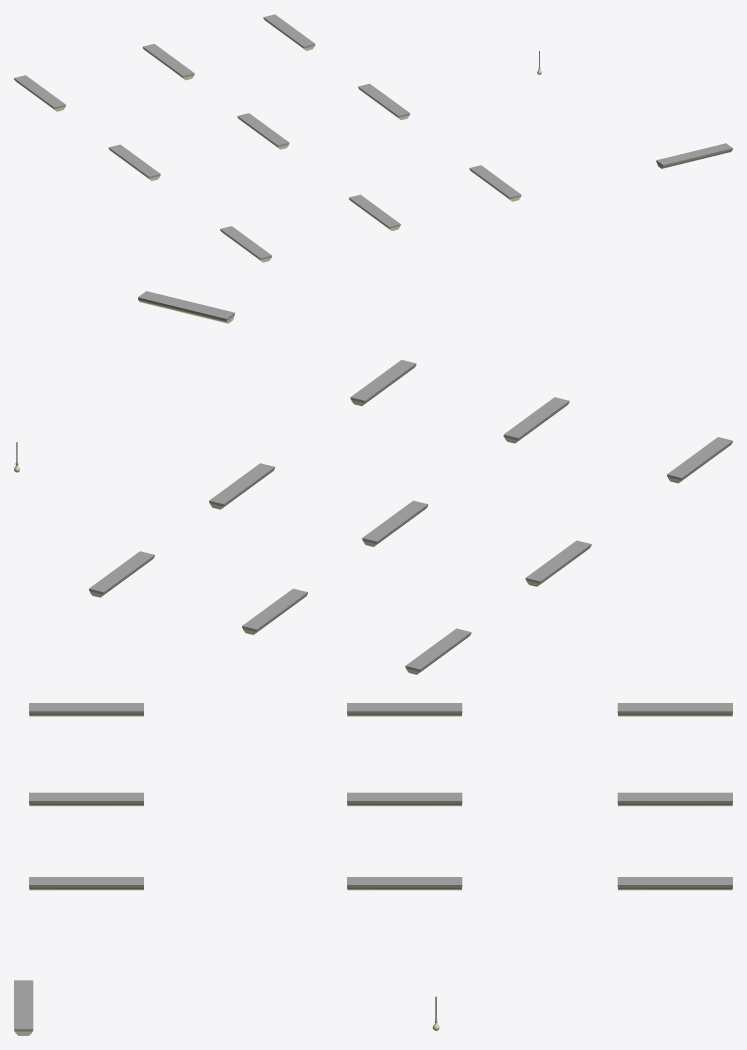
File: geo_ceilinglamps.fbx
The picture shows the model from 3 angles, top to bottom: view 1: azimuth 30°, elevation 25°; view 2: azimuth 150°, elevation 25°; view 3: azimuth 270°, elevation 25°; orthographic projection. The views are drawn at different scales.
Parts seen in each view (by area): view 1: geo_ceelinglamps; view 2: geo_ceelinglamps; view 3: geo_ceelinglamps.
Boxes of the visible parts, bbox=[...] form: geo_ceelinglamps: bbox=[14, 14, 732, 262]; geo_ceelinglamps: bbox=[14, 291, 732, 674]; geo_ceelinglamps: bbox=[14, 703, 732, 1035].
Bounding box in the file's own units: 1158 × 55.43 × 1079.
